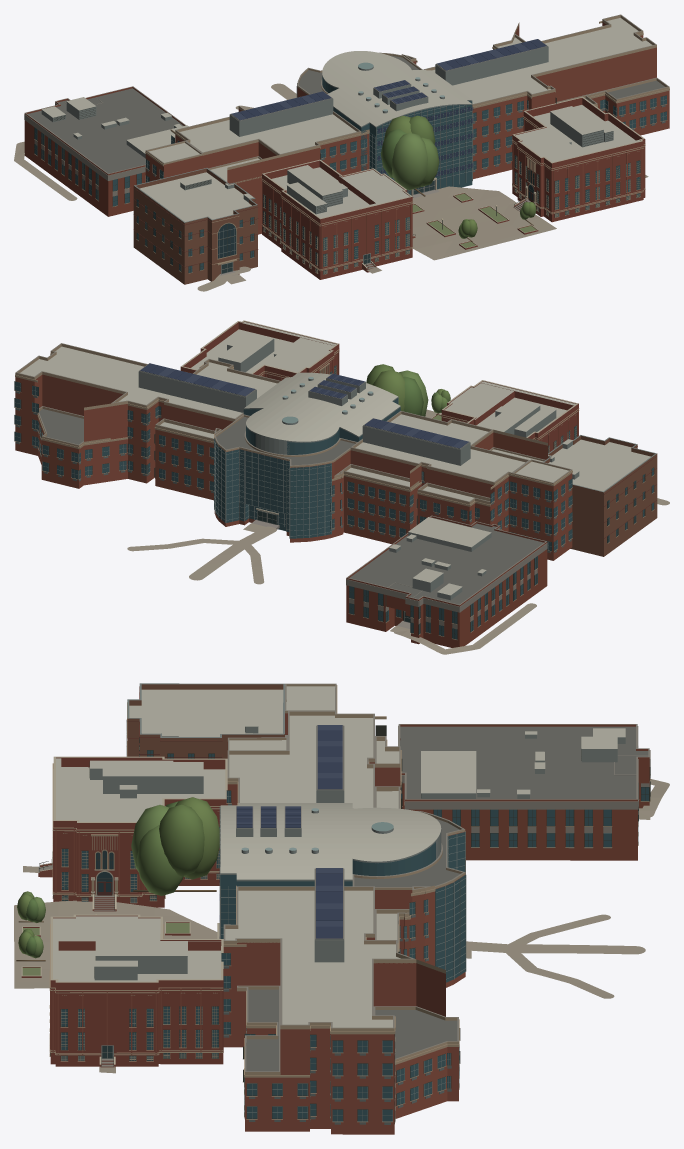
File: site.glb
3 views of the same model, one above another, from view 1: azimuth 30°, elevation 25°; view 2: azimuth 150°, elevation 25°; view 3: azimuth 270°, elevation 25° (orthographic). The views are drawn at different scales.
Parts seen in each view (by area): view 1: roof-86754ad7, roof-75e776d0, roof-0a498bf7, context-b0039, roof-1afe792e, lillis-complex-courtyards, lillis-registered-courtyard-trees; view 2: roof-86754ad7, context-b0039, roof-1afe792e, roof-0a498bf7, roof-75e776d0, lillis-complex-courtyards, lillis-registered-courtyard-trees; view 3: roof-86754ad7, context-b0039, roof-0a498bf7, roof-75e776d0, roof-1afe792e, lillis-complex-courtyards, lillis-registered-courtyard-trees.
Part boxes in pixels (box(x1,y1,x2,y2)): roof-86754ad7: box(145, 14, 669, 234); roof-75e776d0: box(261, 159, 413, 279); roof-0a498bf7: box(512, 96, 645, 222); context-b0039: box(24, 86, 188, 216); roof-1afe792e: box(133, 168, 258, 284); lillis-complex-courtyards: box(14, 83, 648, 291); lillis-registered-courtyard-trees: box(380, 115, 536, 241); roof-86754ad7: box(14, 343, 572, 560); context-b0039: box(346, 515, 547, 647); roof-1afe792e: box(543, 435, 657, 556); roof-0a498bf7: box(180, 320, 339, 380); roof-75e776d0: box(441, 380, 579, 453); lillis-complex-courtyards: box(127, 409, 669, 654); lillis-registered-courtyard-trees: box(366, 364, 450, 416); roof-86754ad7: box(217, 683, 466, 1134); context-b0039: box(398, 724, 650, 860); roof-0a498bf7: box(49, 914, 223, 1066); roof-75e776d0: box(51, 756, 227, 907); roof-1afe792e: box(126, 683, 284, 758); lillis-complex-courtyards: box(14, 779, 669, 1073); lillis-registered-courtyard-trees: box(16, 797, 219, 961).
Size of the model in its own units: 135 by 24.47 by 102.
